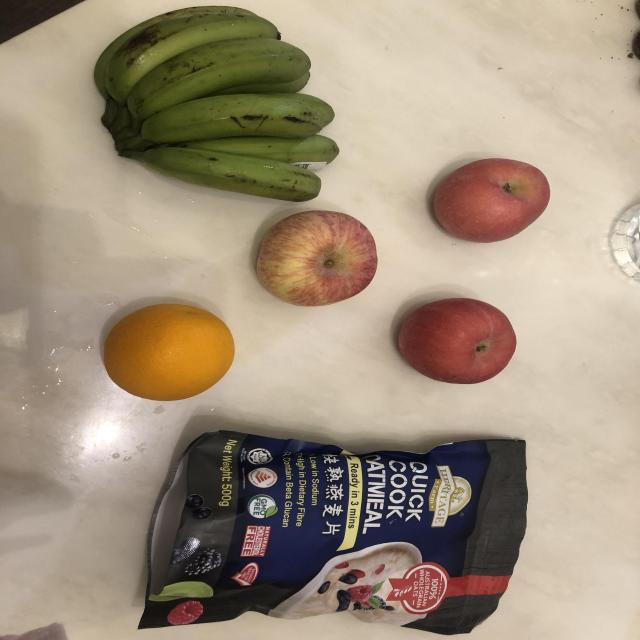Apple: (241, 201, 398, 313), (378, 286, 528, 398), (415, 152, 553, 253)
Banana: (82, 0, 359, 212)
Orange: (98, 297, 241, 412)
